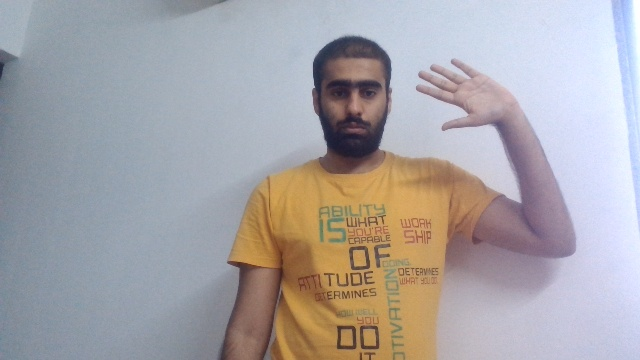paper: (414, 57, 515, 131)
